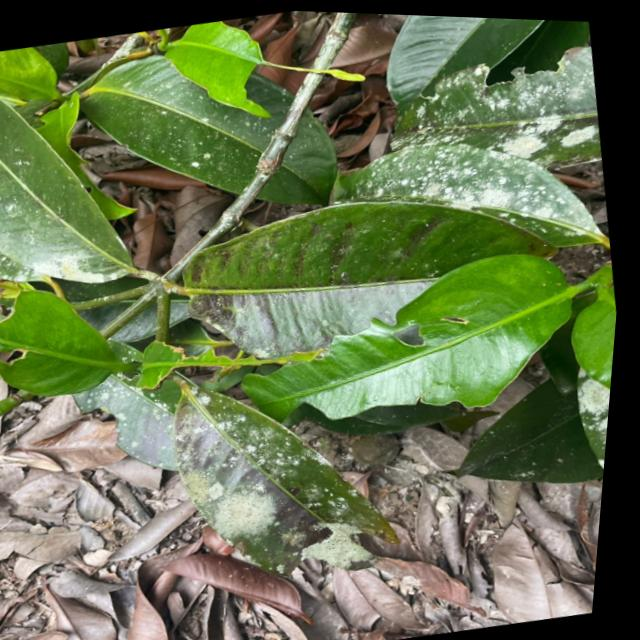Leaf Spot: (173, 378, 342, 559), (366, 113, 558, 233), (420, 62, 607, 173), (140, 80, 265, 187), (0, 126, 60, 240)
